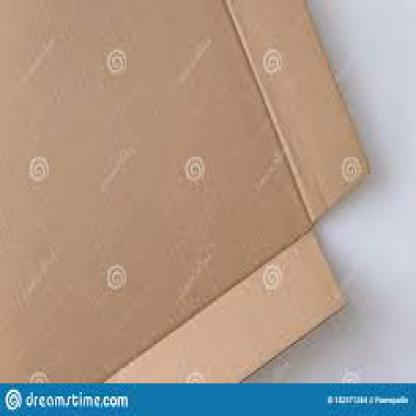CARDBOARD: (0, 0, 369, 379)
